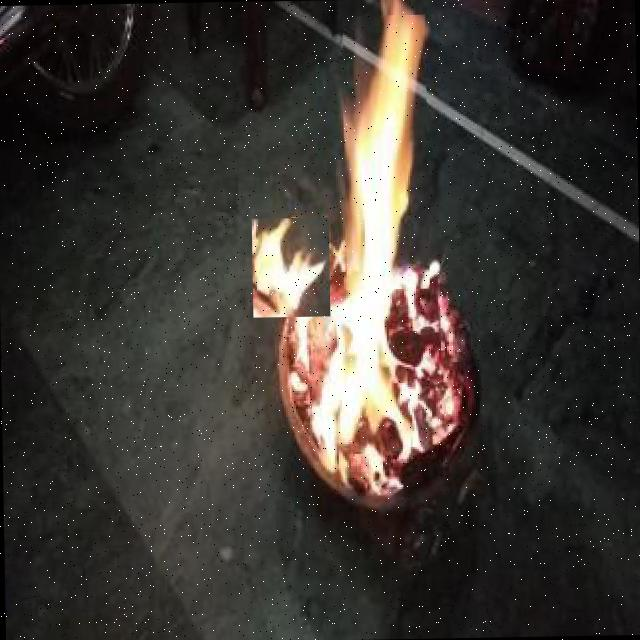fire: (342, 14, 429, 290), (251, 217, 330, 317)
